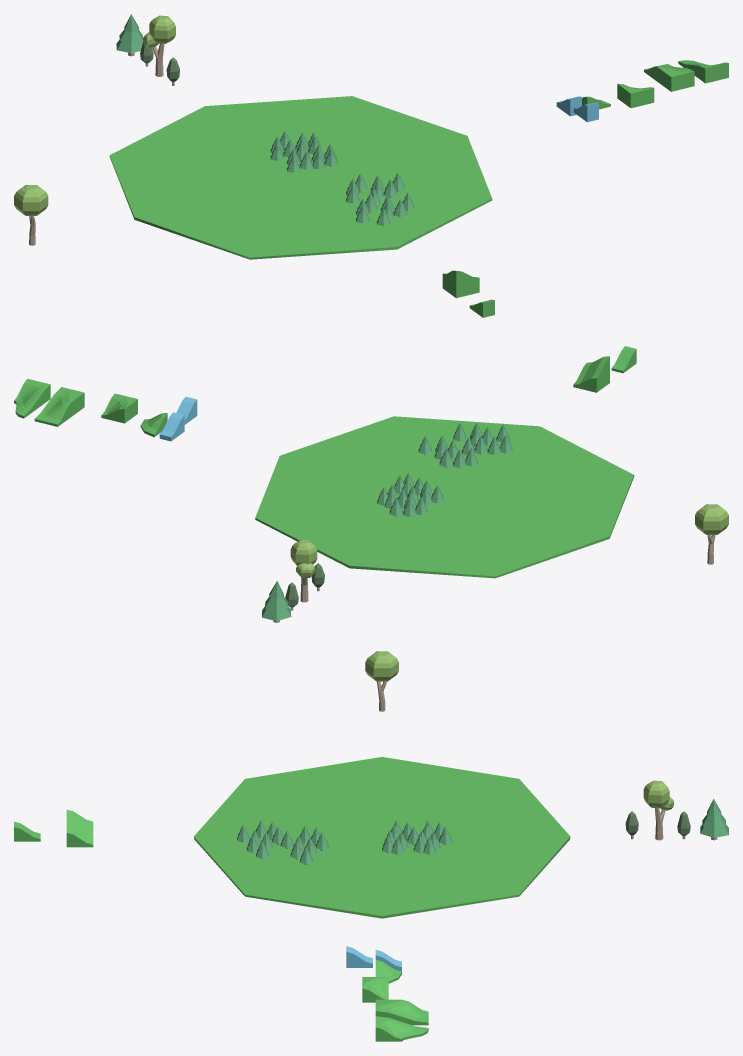
The model's file is bosque.gltf.
The picture shows the model from 3 angles, top to bottom: view 1: azimuth 30°, elevation 25°; view 2: azimuth 150°, elevation 25°; view 3: azimuth 270°, elevation 25°; orthographic projection. The views are drawn at different scales.
Parts seen in each view (by area): view 1: object1, object1.005, object2.004, object1.004, object1.006, object1.001, object3.001; view 2: object1, object1.005, object1.006, object1.004, object2.004, object1.001, object3.001, object1.008, object1.003; view 3: object1, object1.005, object1.006, object1.004, object2.004, object1.001.
Part boxes in pixels (x1,y1,x2,y2): object1: [109, 96, 492, 259]; object1.005: [644, 64, 694, 91]; object2.004: [14, 185, 48, 215]; object1.004: [442, 270, 479, 298]; object1.006: [678, 60, 728, 83]; object1.001: [617, 83, 654, 108]; object3.001: [149, 15, 175, 43]; object1: [255, 416, 634, 578]; object1.005: [34, 387, 84, 426]; object1.006: [14, 378, 50, 418]; object1.004: [573, 356, 609, 392]; object2.004: [695, 504, 728, 534]; object1.001: [101, 393, 137, 423]; object3.001: [290, 540, 317, 565]; object1.008: [159, 412, 184, 441]; object1.003: [611, 346, 636, 373]; object1: [194, 757, 570, 918]; object1.005: [375, 999, 428, 1025]; object1.006: [375, 1016, 428, 1041]; object1.004: [66, 809, 93, 847]; object2.004: [365, 651, 398, 681]; object1.001: [362, 977, 388, 1002].
Bounding box in the file's own units: 60.14 × 4.77 × 53.76.
